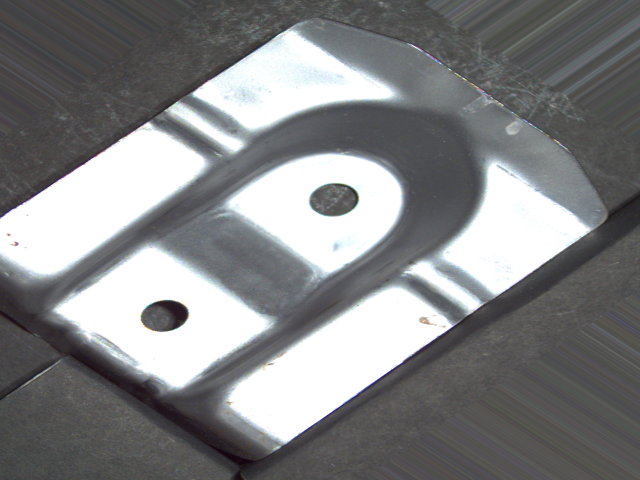defect: (307, 179, 363, 218)
